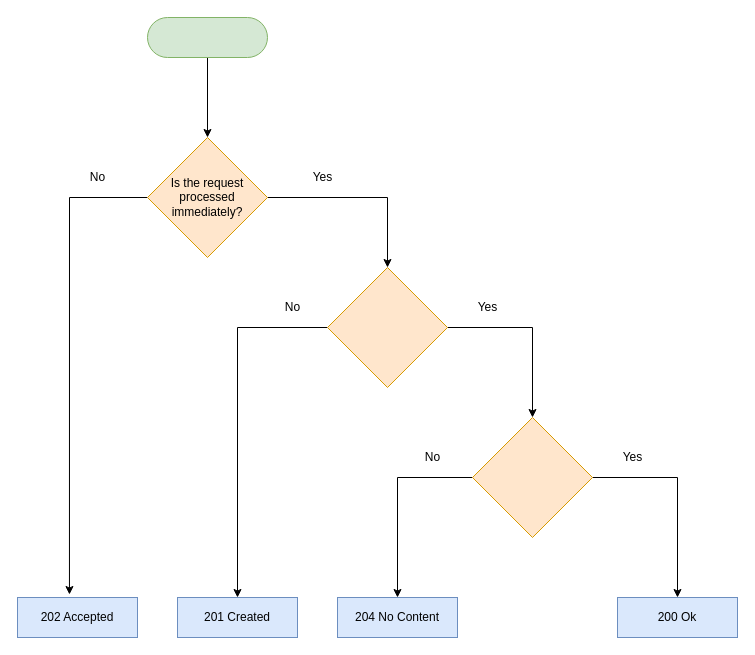
Image size: 755x655. Some labels were removed from this diagram. The shapes that lost their labels are listed below. From the top down, each one's centre as x and y in pixels, then its label:
the point at 207,37: Request Received
the point at 387,327: Does the resource already exist?
the point at 532,477: Is there a response body?
